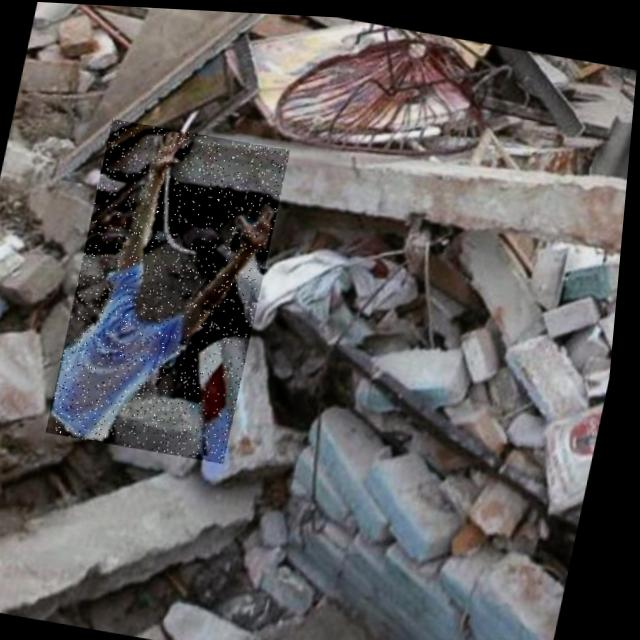Person in Rubble: (52, 115, 294, 462)
